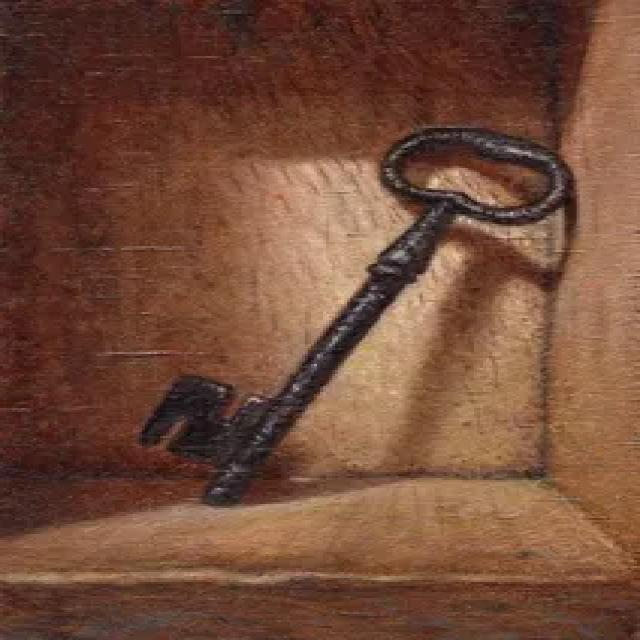key: (104, 109, 589, 516)
